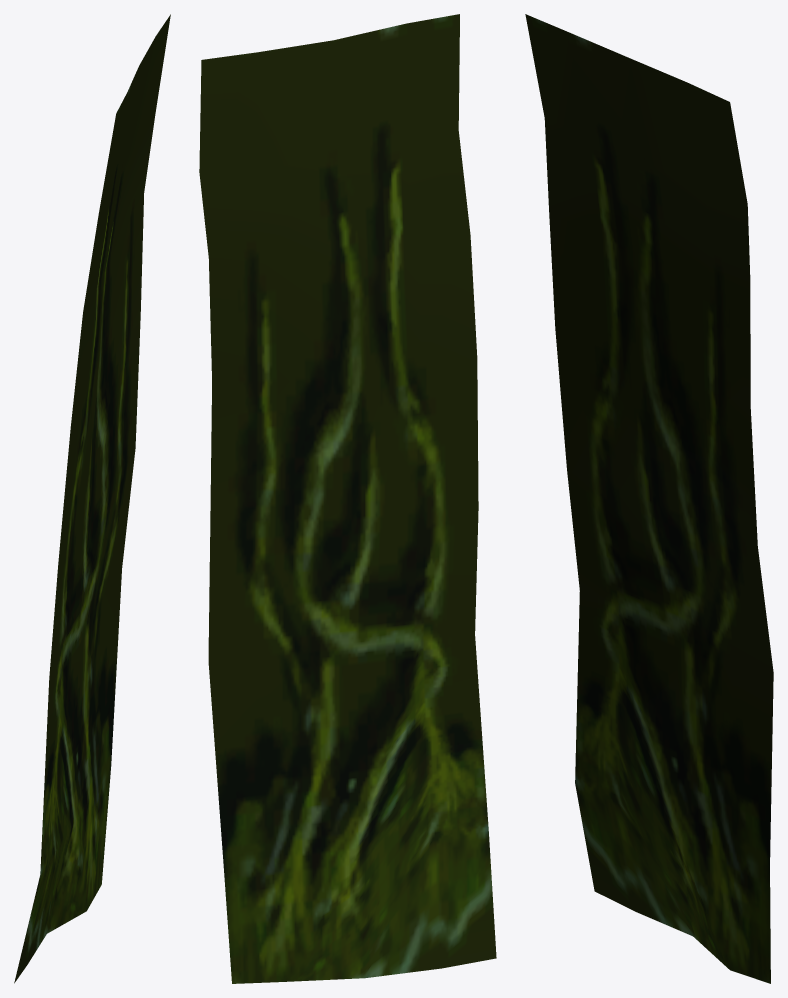
The model's file is MIRKWOOD_CLIMABLE_PLANE_INVISIBLE08.obj.
3 views of the same model, side by side, from view 1: azimuth 30°, elevation 25°; view 2: azimuth 150°, elevation 25°; view 3: azimuth 270°, elevation 25° (orthographic). The views are drawn at different scales.
Visible parts, largest first — view 1: ane_invisible08; view 2: ane_invisible08; view 3: ane_invisible08.
Boxes of the visible parts, bbox=[...] form: ane_invisible08: bbox=[14, 14, 170, 983]; ane_invisible08: bbox=[199, 14, 496, 983]; ane_invisible08: bbox=[525, 14, 773, 983].
Size of the model in its own units: 189 by 721 by 176.
